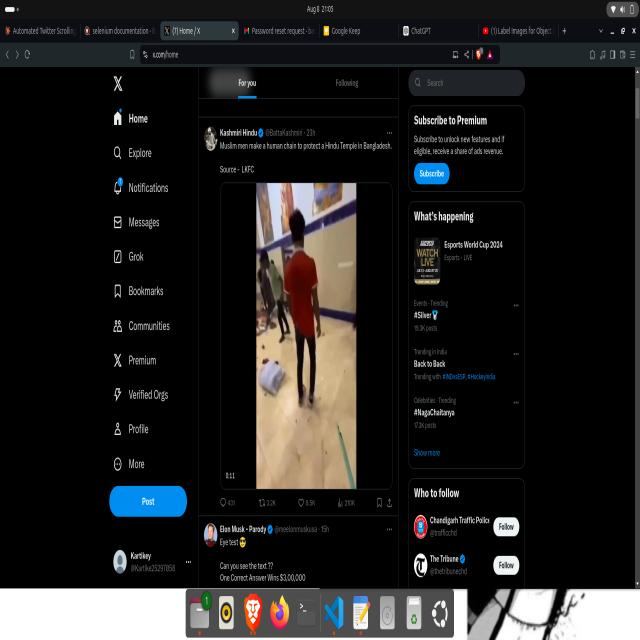Tweet-Comment_Box-: (195, 113, 403, 523)
